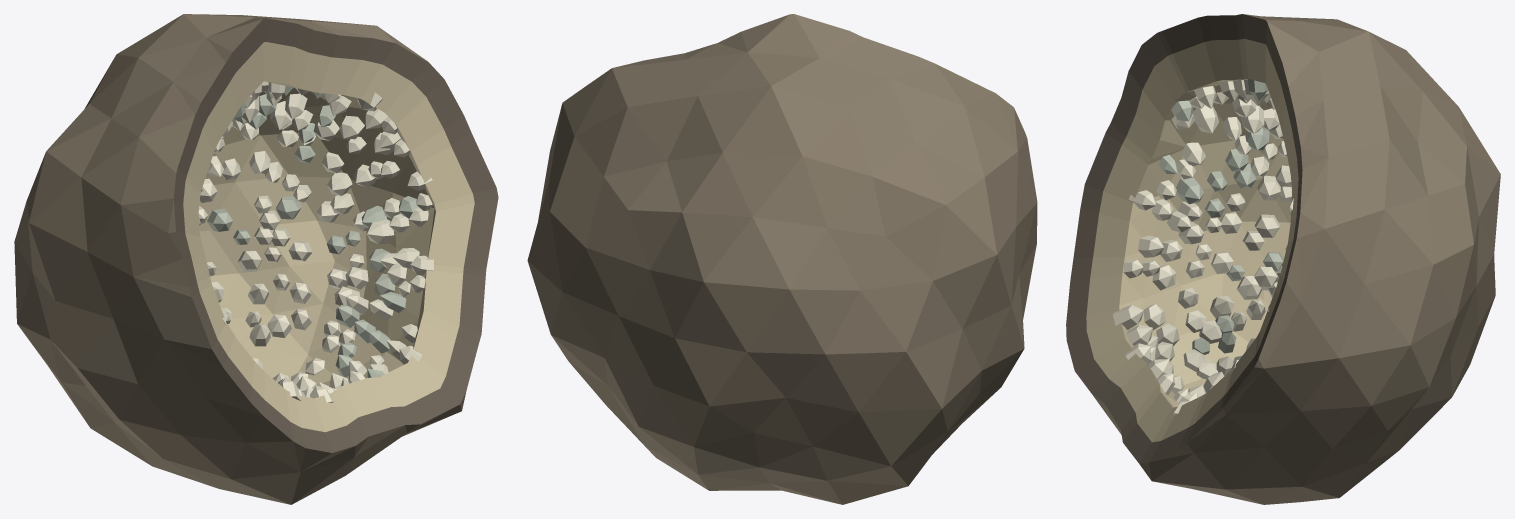
The picture shows the model from 3 angles, left to right: view 1: azimuth 30°, elevation 25°; view 2: azimuth 150°, elevation 25°; view 3: azimuth 270°, elevation 25°; orthographic projection. The views are drawn at different scales.
Parts seen in each view (by area): view 1: integrated_enclosing_rind_layered_cut_rim_and_hollow_liner, small_unequal_inward_quartz_lining.001, small_unequal_inward_quartz_lining; view 2: integrated_enclosing_rind_layered_cut_rim_and_hollow_liner; view 3: integrated_enclosing_rind_layered_cut_rim_and_hollow_liner, small_unequal_inward_quartz_lining.001, small_unequal_inward_quartz_lining.
Part boxes in pixels (x1,y1,x2,y2): integrated_enclosing_rind_layered_cut_rim_and_hollow_liner: [14, 14, 498, 504]; small_unequal_inward_quartz_lining.001: [198, 81, 433, 402]; small_unequal_inward_quartz_lining: [199, 86, 418, 383]; integrated_enclosing_rind_layered_cut_rim_and_hollow_liner: [527, 14, 1037, 504]; integrated_enclosing_rind_layered_cut_rim_and_hollow_liner: [1066, 14, 1500, 504]; small_unequal_inward_quartz_lining.001: [1112, 80, 1293, 414]; small_unequal_inward_quartz_lining: [1158, 74, 1283, 364].
Size of the model in its own units: 0.1665 by 0.1609 by 0.1383.
